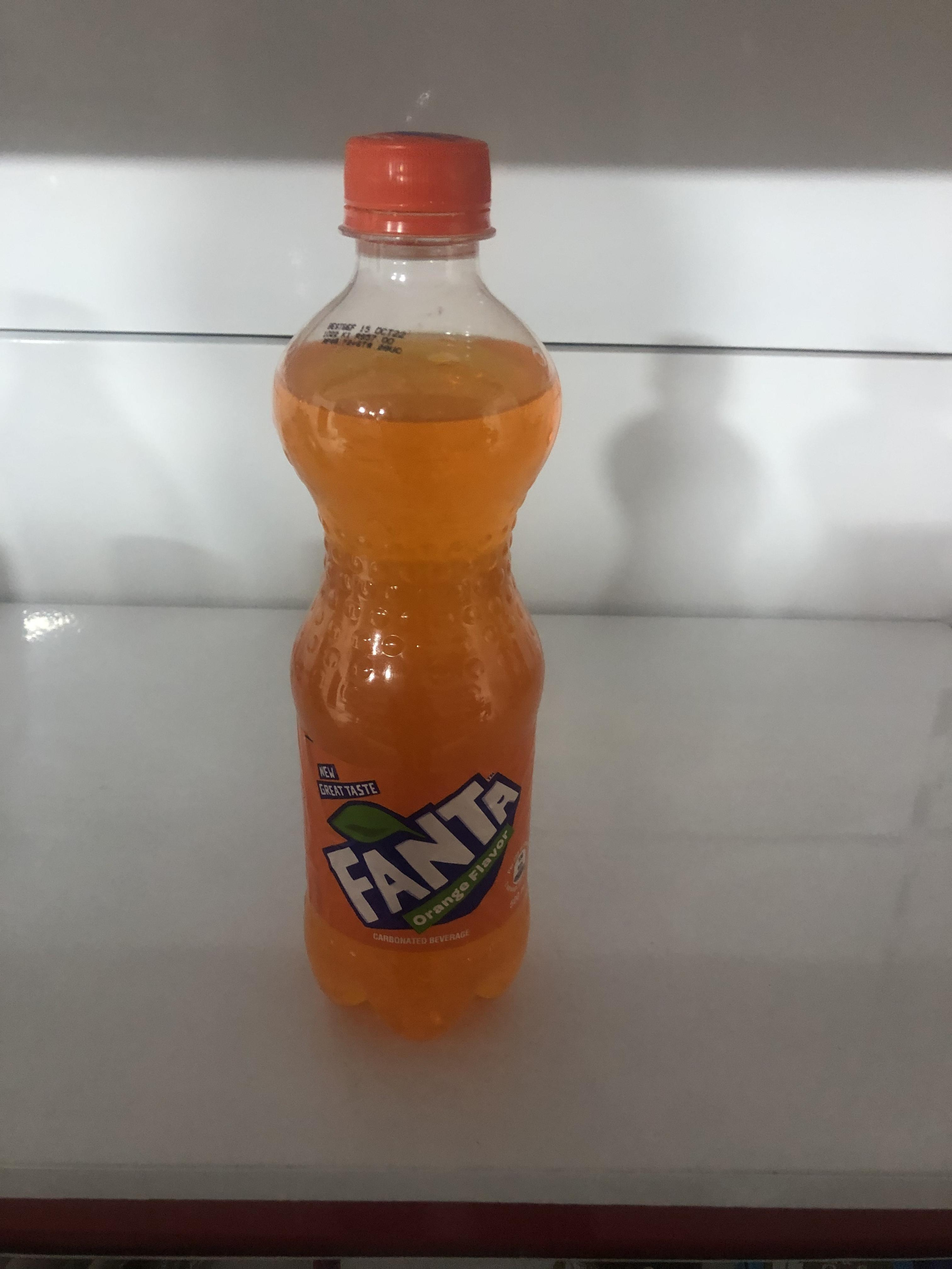bottle-plastic: (260, 120, 567, 1035)
